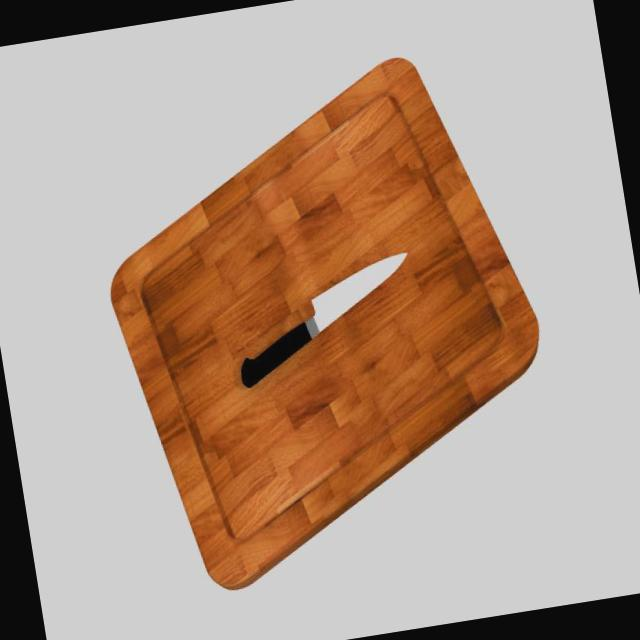knife: (234, 321, 318, 389)
